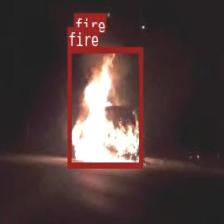fire: (67, 46, 142, 167), (74, 13, 99, 37)
